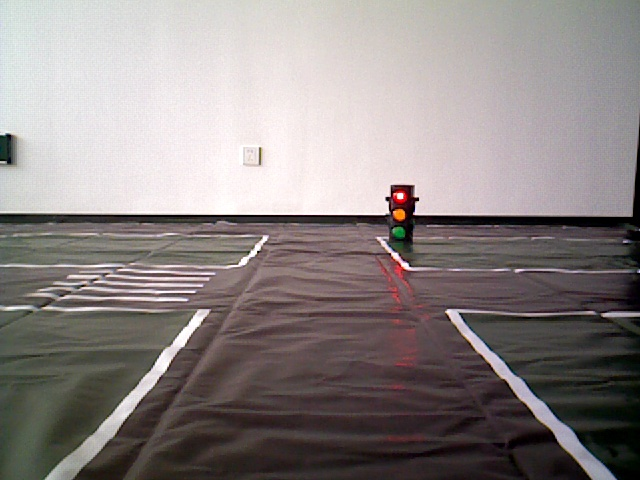red: (384, 184, 411, 243)
